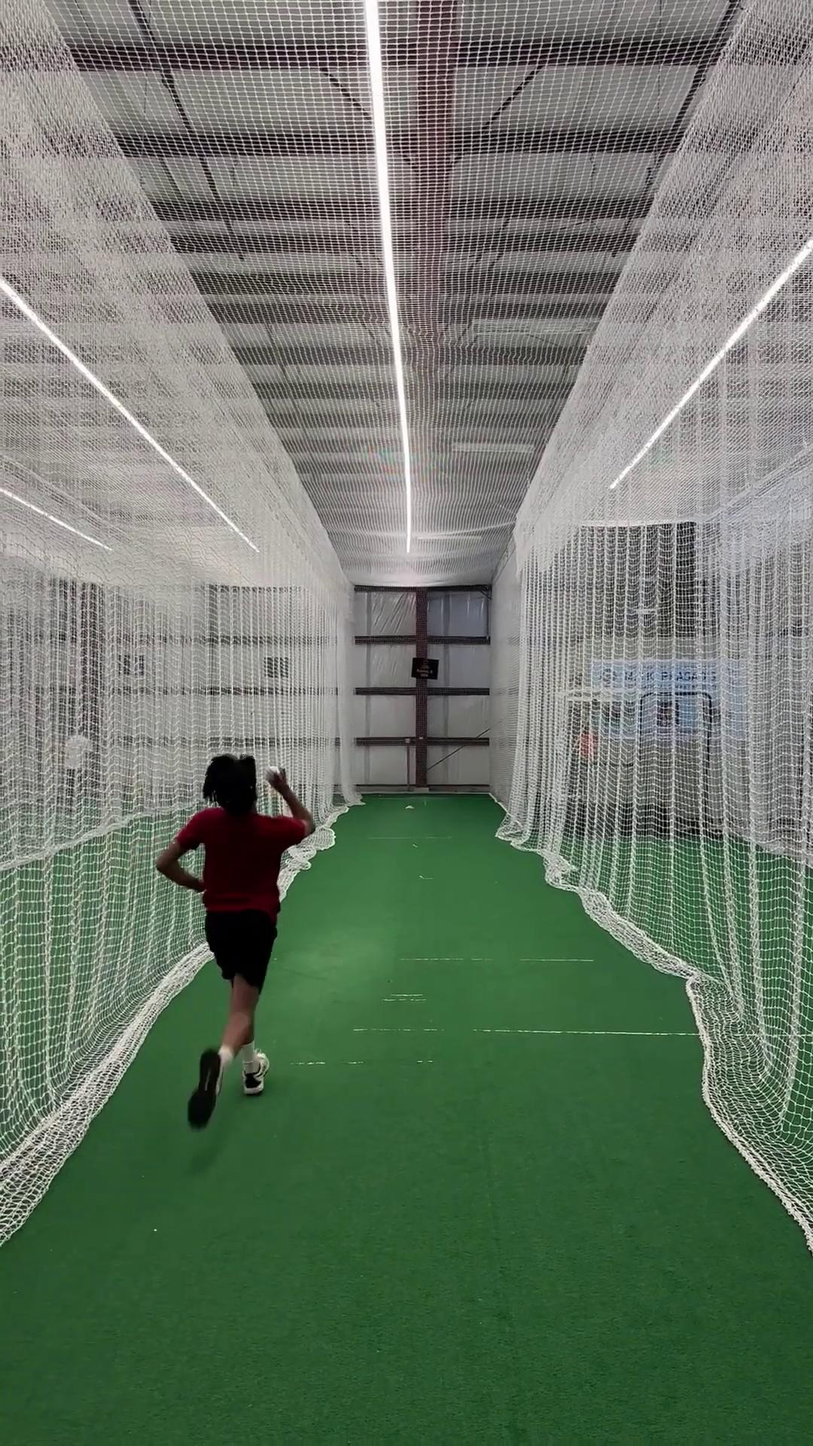ball: (260, 760, 284, 788)
